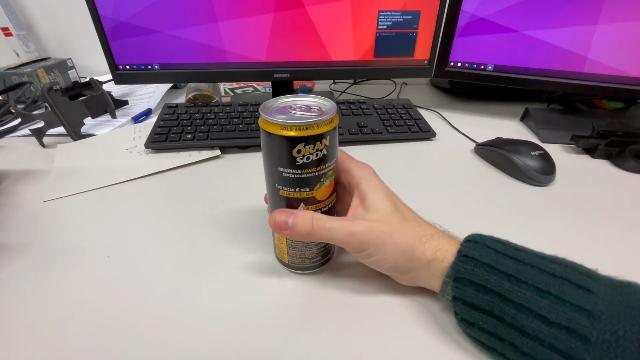OranSoda: (256, 91, 342, 278)
